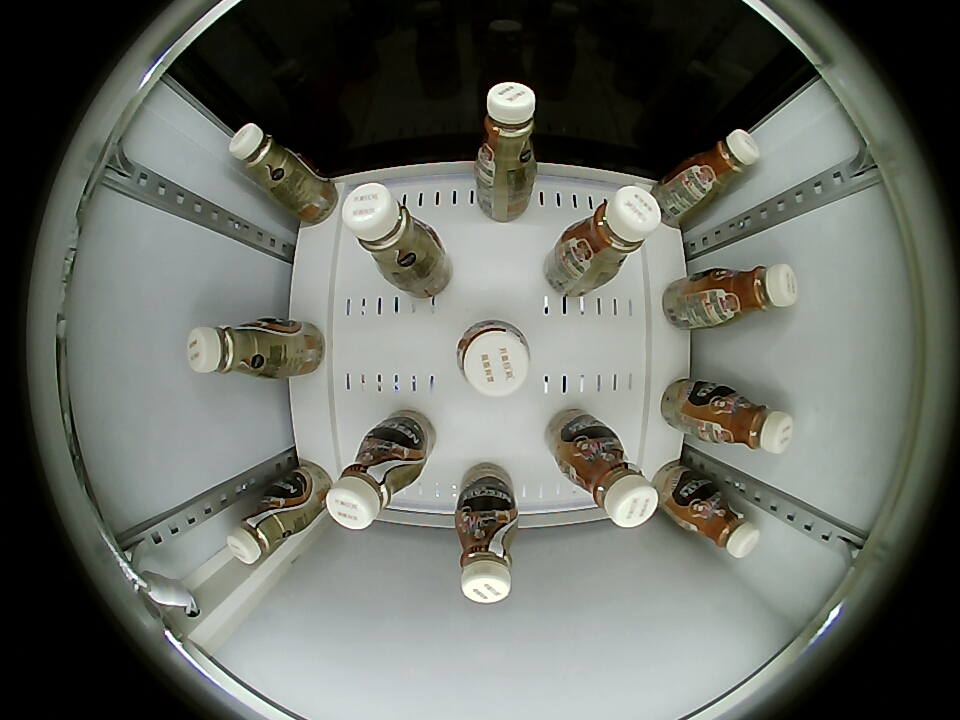kafei: (326, 432, 425, 531), (564, 431, 659, 528), (567, 186, 661, 279), (342, 182, 435, 274), (454, 498, 519, 603), (226, 488, 312, 564), (475, 82, 539, 181), (702, 386, 794, 454), (679, 483, 761, 558), (456, 320, 531, 396), (705, 263, 798, 324), (229, 123, 307, 195), (186, 319, 277, 378), (683, 129, 760, 197)
